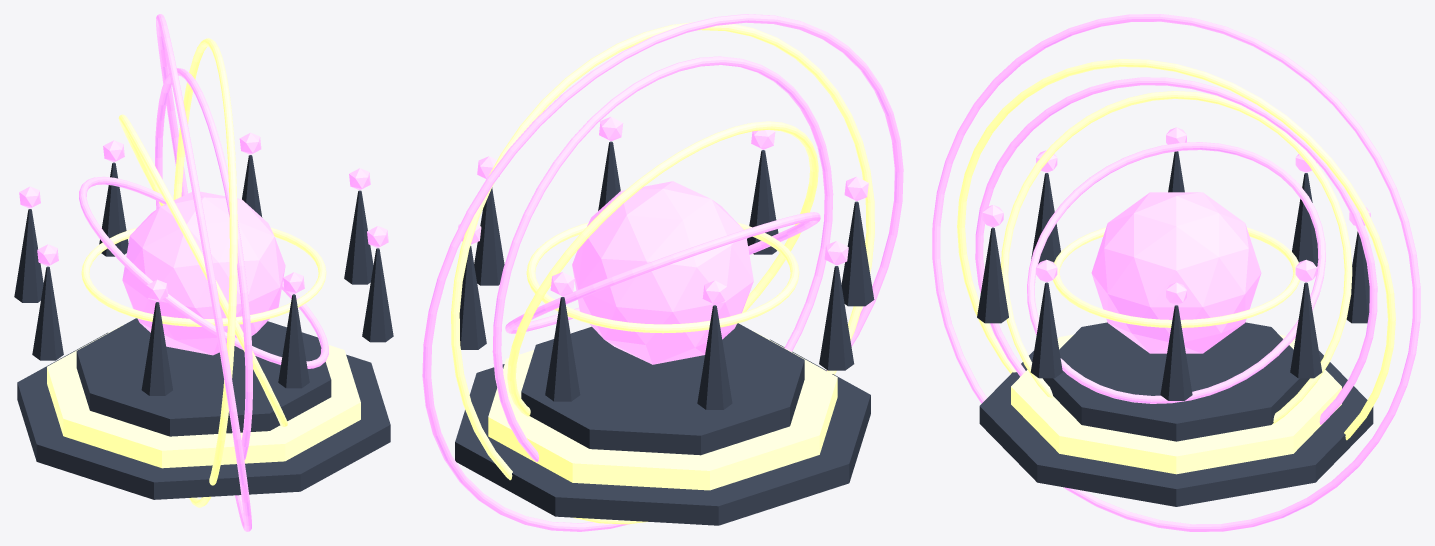
Rendered from gpu-blender-v52.glb.
The picture shows the model from 3 angles, left to right: view 1: azimuth 30°, elevation 25°; view 2: azimuth 150°, elevation 25°; view 3: azimuth 270°, elevation 25°; orthographic projection. The views are drawn at different scales.
Visible parts, largest first — view 1: Cylinder.002, Cylinder, SovereignCore_adytum-alchemist-ai-workflow, Cylinder.001, Torus.005, Torus.004, Torus.003, Torus.001, Torus, Torus.002, Cone.007, Cone.006 (+6 smaller); view 2: Cylinder.002, SovereignCore_adytum-alchemist-ai-workflow, Cylinder, Cylinder.001, Torus.005, Torus.004, Torus.003, Torus.002, Torus.001, Torus, Cone.004, Cone.002 (+6 smaller); view 3: SovereignCore_adytum-alchemist-ai-workflow, Cylinder.002, Cylinder, Cylinder.001, Torus.005, Torus.004, Torus.003, Torus.002, Torus.001, Torus, Cone.001, Cone.007 (+5 smaller).
Boxes of the visible parts, left/top/right/bottom form: Cylinder.002: left=76, top=318, right=331, bottom=436; Cylinder: left=17, top=332, right=390, bottom=499; SovereignCore_adytum-alchemist-ai-workflow: left=122, top=191, right=285, bottom=355; Cylinder.001: left=47, top=325, right=360, bottom=468; Torus.005: left=156, top=14, right=251, bottom=531; Torus.004: left=173, top=38, right=237, bottom=507; Torus.003: left=155, top=68, right=252, bottom=459; Torus.001: left=79, top=176, right=328, bottom=368; Torus: left=81, top=227, right=326, bottom=326; Torus.002: left=118, top=114, right=287, bottom=426; Cone.007: left=362, top=248, right=393, bottom=342; Cone.006: left=278, top=294, right=309, bottom=388; Cylinder.002: left=521, top=323, right=804, bottom=455; SovereignCore_adytum-alchemist-ai-workflow: left=572, top=181, right=753, bottom=364; Cylinder: left=455, top=339, right=870, bottom=525; Cylinder.001: left=488, top=330, right=837, bottom=490; Torus.005: left=422, top=14, right=903, bottom=531; Torus.004: left=451, top=22, right=874, bottom=524; Torus.003: left=492, top=56, right=833, bottom=461; Torus.002: left=507, top=121, right=818, bottom=416; Torus.001: left=505, top=212, right=820, bottom=333; Torus: left=526, top=222, right=799, bottom=333; Cone.004: left=819, top=266, right=854, bottom=370; Cone.002: left=545, top=297, right=580, bottom=401; SovereignCore_adytum-alchemist-ai-workflow: left=1091, top=192, right=1261, bottom=353; Cylinder.002: left=1043, top=322, right=1309, bottom=441; Cylinder: left=979, top=351, right=1373, bottom=506; Cylinder.001: left=1011, top=334, right=1341, bottom=474; Torus.005: left=932, top=14, right=1420, bottom=531; Torus.004: left=957, top=59, right=1395, bottom=440; Torus.003: left=975, top=77, right=1377, bottom=424; Torus.002: left=1001, top=91, right=1352, bottom=423; Torus.001: left=1027, top=142, right=1325, bottom=403; Torus: left=1053, top=227, right=1299, bottom=327; Cone.001: left=1290, top=282, right=1322, bottom=378; Cone.007: left=1030, top=282, right=1062, bottom=378.
Bounding box in the file's own units: 4.41 × 5.93 × 5.46.
